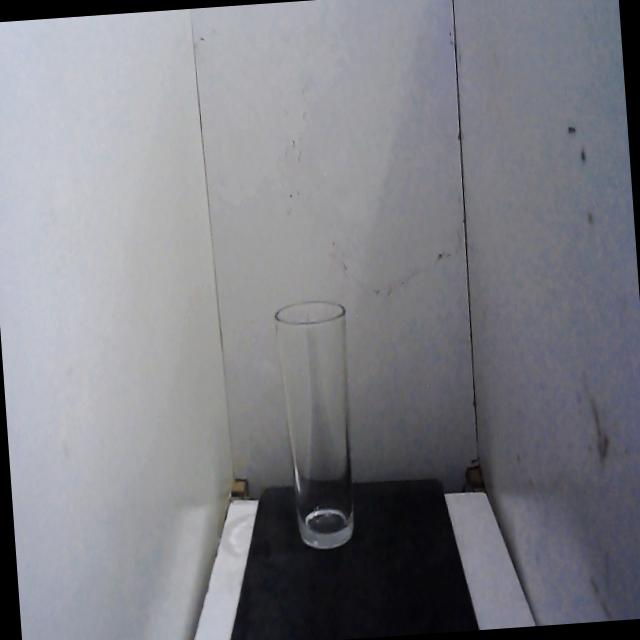vidro: (265, 283, 369, 563)
